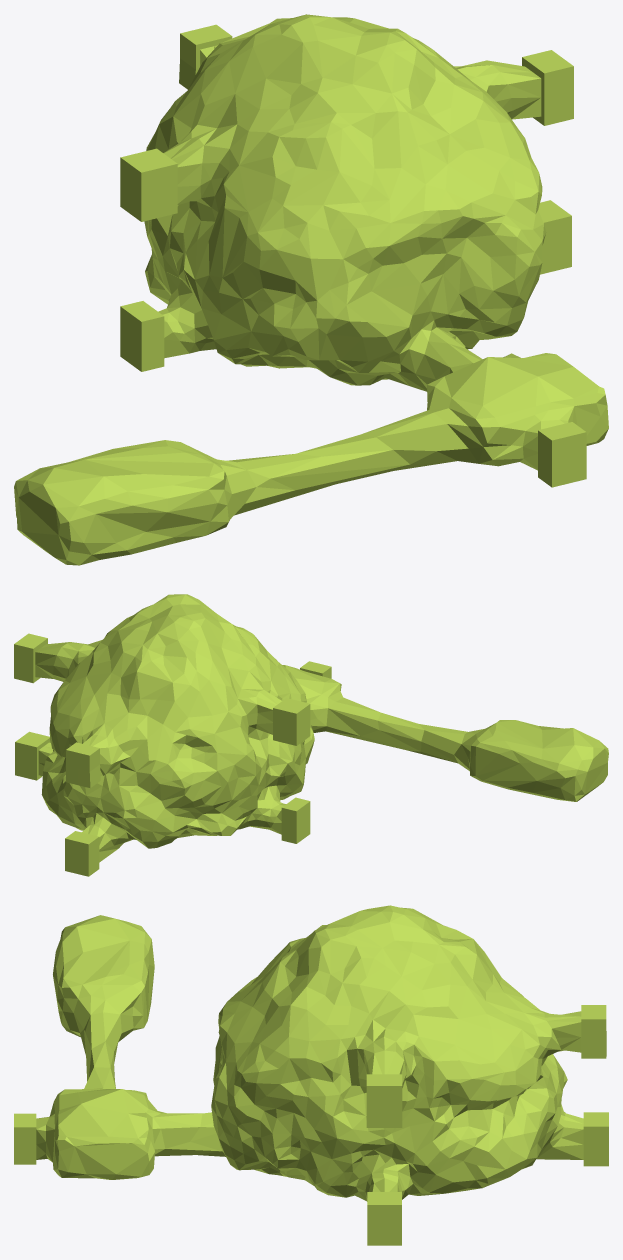
File: TreeLevel_Emptee.fbx
The picture shows the model from 3 angles, top to bottom: view 1: azimuth 30°, elevation 25°; view 2: azimuth 150°, elevation 25°; view 3: azimuth 270°, elevation 25°; orthographic projection. The views are drawn at different scales.
Parts seen in each view (by area): view 1: PoziomTestDeciamte; view 2: PoziomTestDeciamte; view 3: PoziomTestDeciamte.
Boxes of the visible parts, box(x1,y1,x2,y2) form: PoziomTestDeciamte: box(14, 14, 608, 565); PoziomTestDeciamte: box(14, 594, 608, 876); PoziomTestDeciamte: box(14, 905, 608, 1245).
Bounding box in the file's own units: 13670 × 5535 × 12511.
